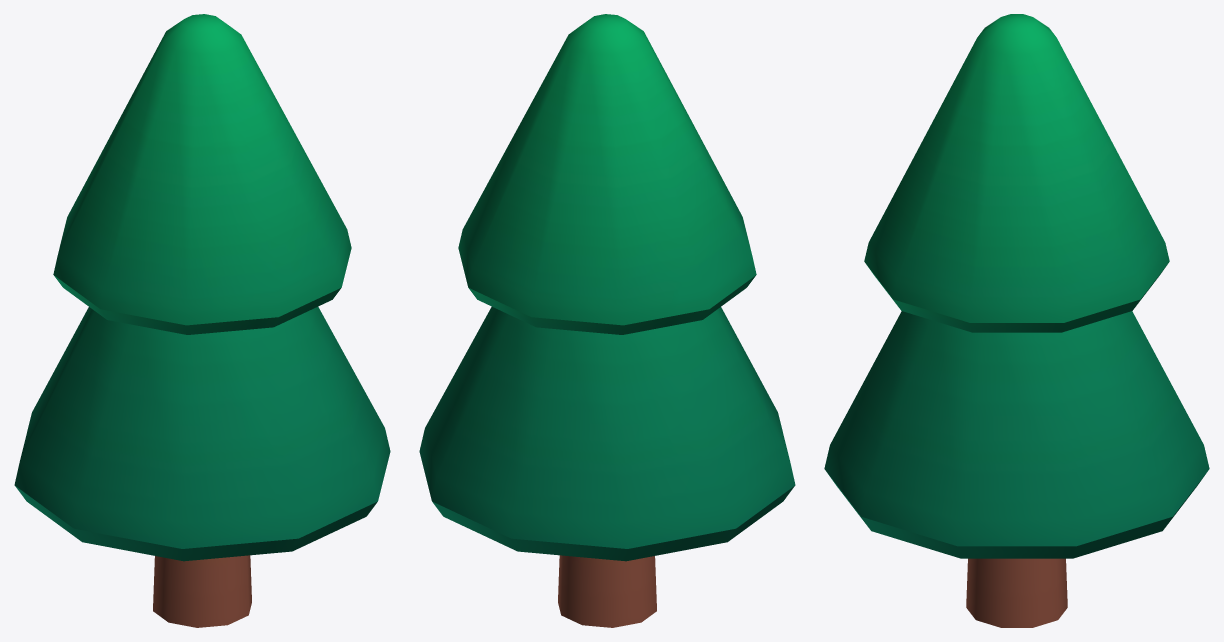
Rendered from tree_single_B.glb.
3 views of the same model, side by side, from view 1: azimuth 30°, elevation 25°; view 2: azimuth 150°, elevation 25°; view 3: azimuth 270°, elevation 25° (orthographic).
Parts seen in each view (by area): view 1: tree_single_B; view 2: tree_single_B; view 3: tree_single_B.
Boxes of the visible parts, <box> form: tree_single_B: <box>14,14,390,627</box>; tree_single_B: <box>419,14,795,627</box>; tree_single_B: <box>824,14,1209,627</box>.
Bounding box in the file's own units: 0.6849 × 1.21 × 0.7201.
1 material, 1 textured.
